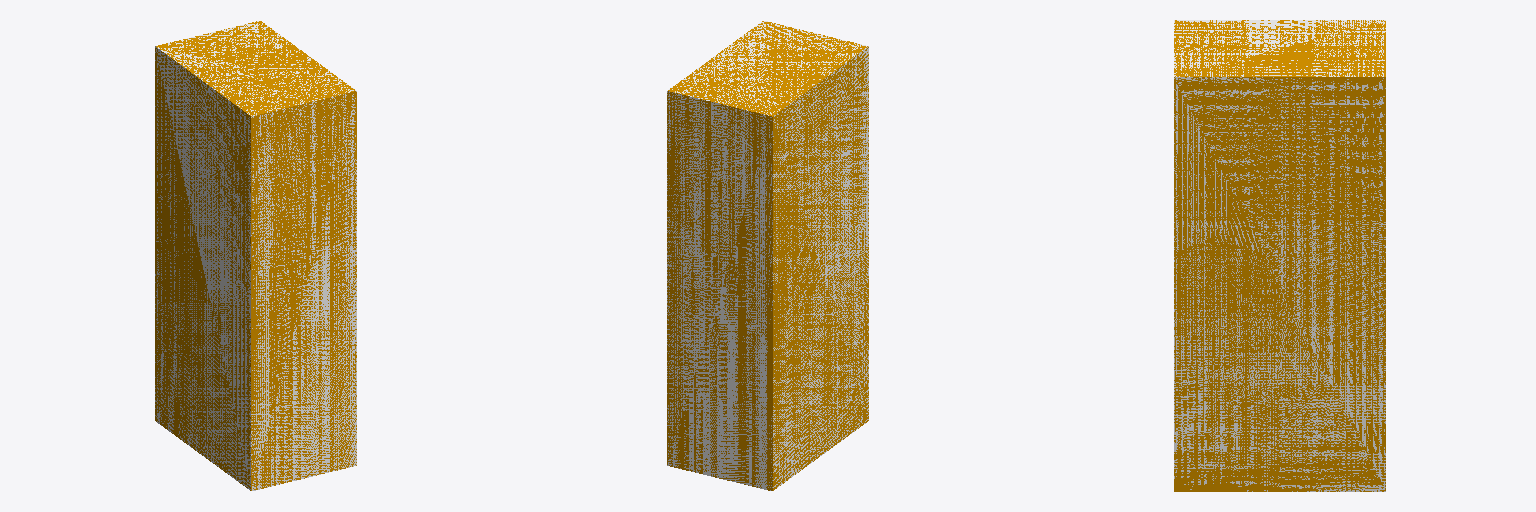
URDF robot description (my_object):
<?xml version="1.0" ?> 
<robot name="my_object" static="true">
  <link name="base_link">
  <inertial>
    <mass value="1.37" />
    <origin xyz="0 0 0.0" />
    <inertia ixx="1.0" ixy="0.0" ixz="0.0" iyy="1.0" iyz="0.0" izz="1.0"/>
  </inertial>
  <visual>
   <origin xyz="0 0 0.0" rpy="0 0 3.141592654" />
   <geometry>
     <mesh filename="package://cob_gazebo_objects/Media/models/green_tea.dae"/>
   </geometry>
  </visual>
  <collision>
   <origin xyz="0 0 0" rpy="0 0 0" />
   <geometry>
     <box size="0.057 0.091 0.195" />
   </geometry>
  </collision>     
  </link>

<gazebo reference="base_link">
  <mu1>50.0</mu1>
  <mu2>50.0</mu2>
  <kp>1000000.0</kp>
  <kd>1.0</kd>
</gazebo>


</robot>

--- Facts derived from the render (not from the file) ---
Views: 3 orthographic renders of the robot side by side, from view 1: azimuth 30°, elevation 25°; view 2: azimuth 150°, elevation 25°; view 3: azimuth 270°, elevation 25°.
Model my_object with 1 links and 0 joints (none), rooted at base_link, posed every joint at zero.
Links seen in each view (by area): view 1: base_link; view 2: base_link; view 3: base_link.
Link boxes in pixels (x1,y1,x2,y2): base_link: [155, 21, 356, 490]; base_link: [667, 21, 868, 490]; base_link: [1174, 20, 1385, 491].
Size in the robot's own frame: 0.0015 by 0.0023 by 0.0049 metres.
1 mesh visuals loaded from 1 distinct referenced files (1 Collada DAE).